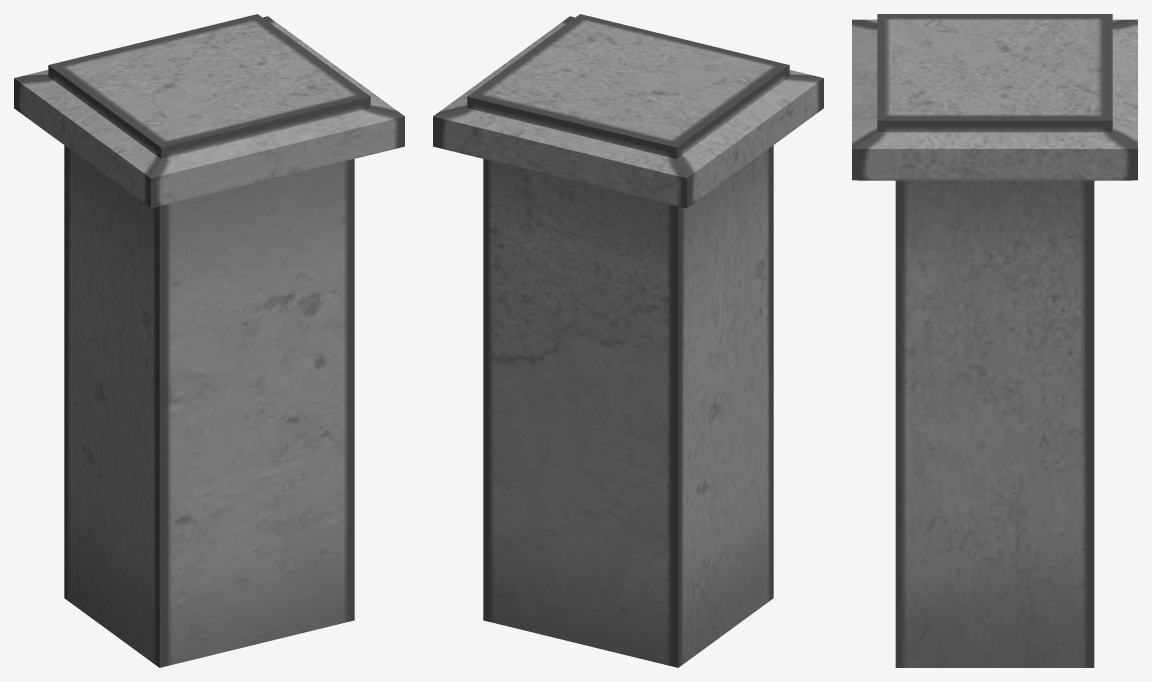
The model's file is Wall_Pillar.fbx.
3 views of the same model, side by side, from view 1: azimuth 30°, elevation 25°; view 2: azimuth 150°, elevation 25°; view 3: azimuth 270°, elevation 25° (orthographic). The views are drawn at different scales.
Parts seen in each view (by area): view 1: pCube8; view 2: pCube8; view 3: pCube8.
Part boxes in pixels (bbox=[...]): pCube8: bbox=[14, 14, 404, 667]; pCube8: bbox=[433, 14, 823, 667]; pCube8: bbox=[852, 14, 1137, 667].
Bounding box in the file's own units: 113 × 225 × 105.
